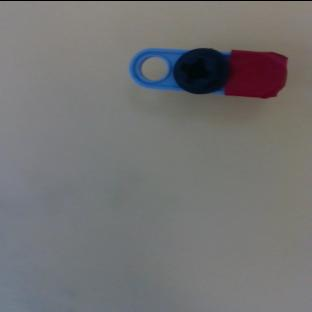part_1_good: (129, 43, 289, 98)
